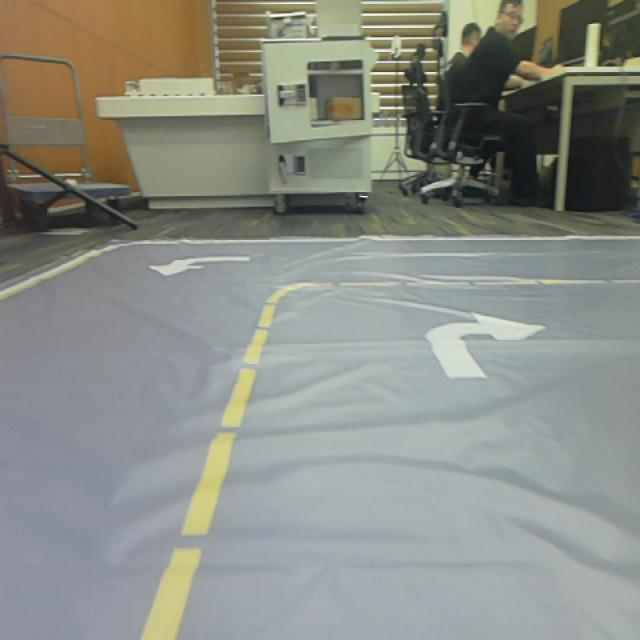left_lane: (141, 302, 276, 640)
